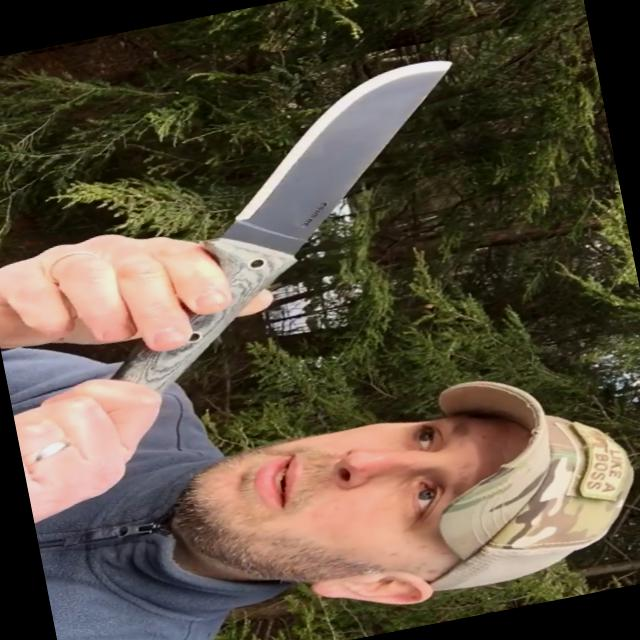knife: (137, 49, 503, 330)
